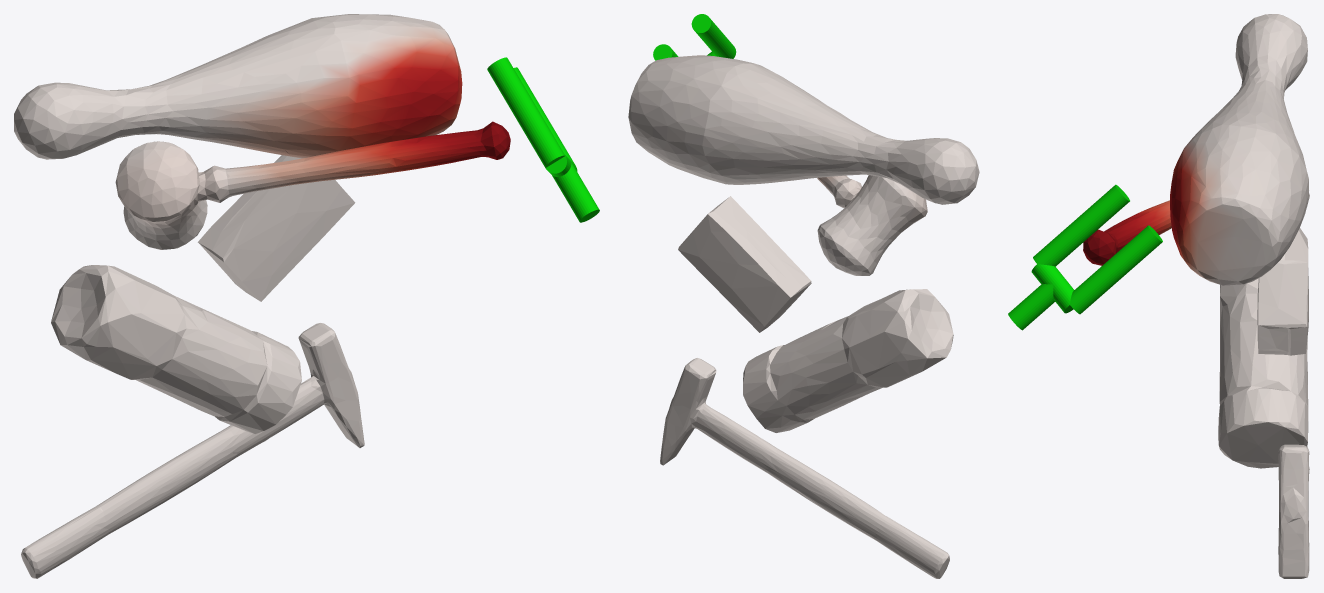
Rendered from round_000_trial_000.obj.
3 renders of one model, left to right at view 1: azimuth 30°, elevation 25°; view 2: azimuth 150°, elevation 25°; view 3: azimuth 270°, elevation 25°, orthographic. The views are drawn at different scales.
Parts seen in each view (by area): view 1: geometry_0, geometry_1; view 2: geometry_0, geometry_1; view 3: geometry_0, geometry_1.
Part boxes in pixels (x1,y1,x2,y2): geometry_0: (14, 14, 510, 578); geometry_1: (487, 57, 599, 222); geometry_0: (628, 55, 979, 578); geometry_1: (653, 14, 736, 60); geometry_0: (1083, 14, 1309, 578); geometry_1: (1008, 184, 1162, 330).
Bounding box in the file's own units: 0.222 × 0.2405 × 0.136.
